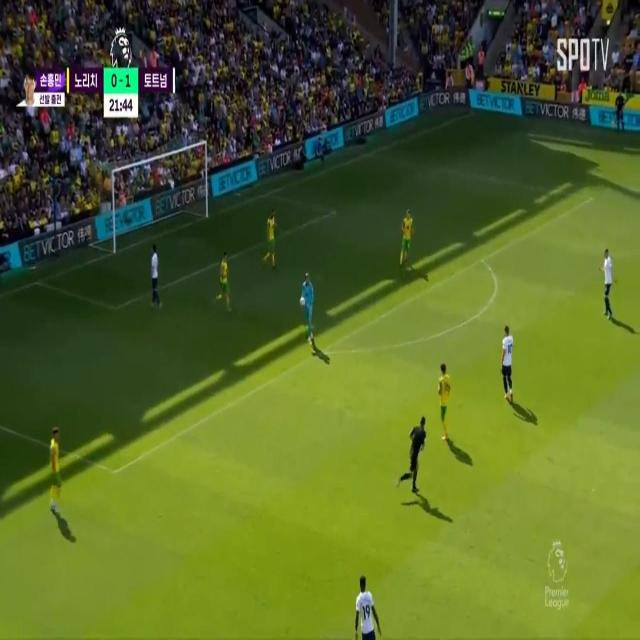ball: (297, 294, 310, 312)
player: (498, 320, 518, 412), (355, 568, 377, 637), (435, 357, 452, 446), (46, 425, 64, 499), (216, 245, 234, 313), (400, 208, 418, 266), (264, 206, 280, 267), (602, 242, 614, 316), (149, 243, 159, 299)
referee: (408, 417, 424, 489)
